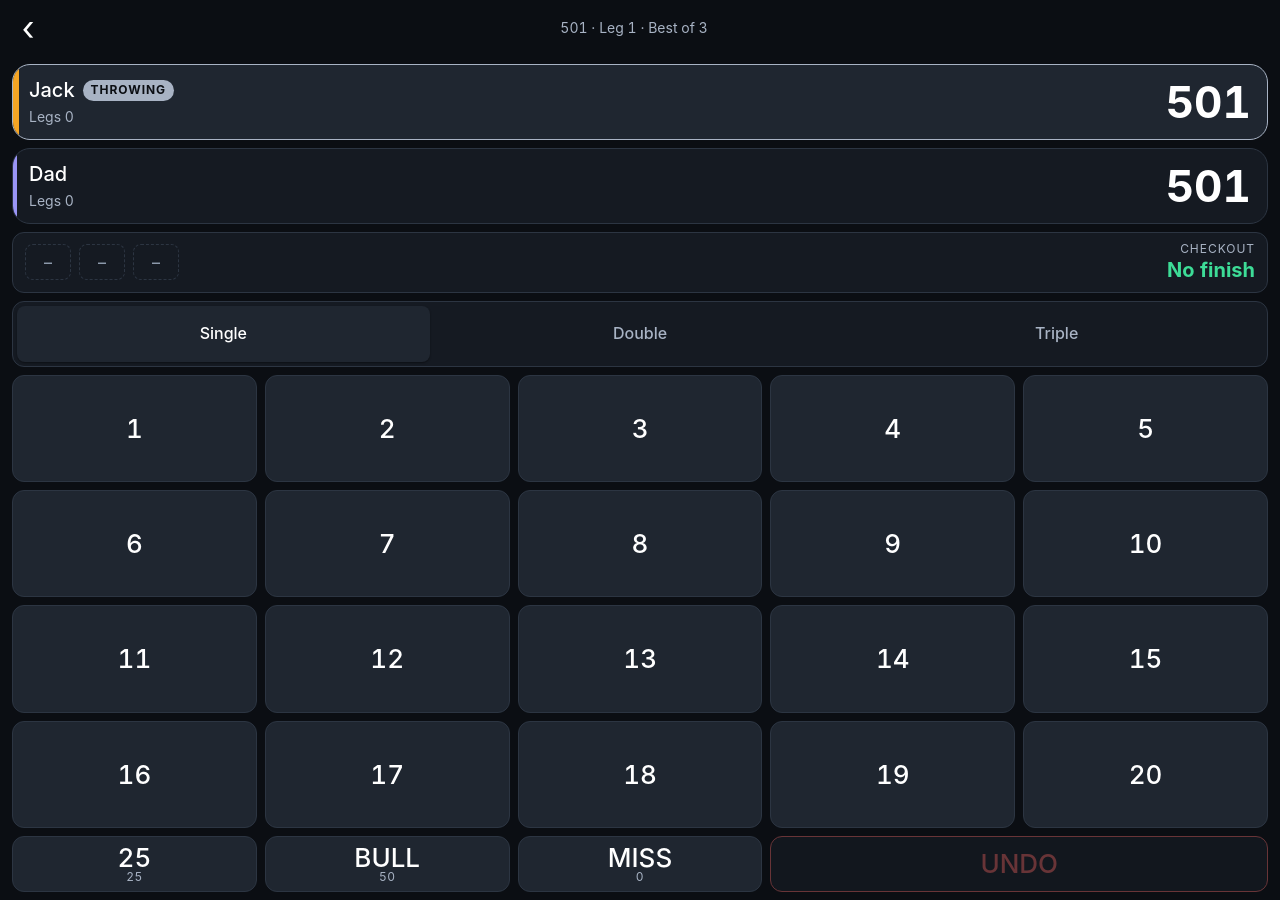
Test case: criterion 1: the boundary between the two sheets › shows the match sheet when the deciding leg of a best-of-3 is won
Expected: the element named "This visit" is shown, [25,244,179,280]
What coordinates should you click on to do the following:
click the radio button labelled "Double"
I would click on:
 (640, 334)
Its box is [434,306,846,362].
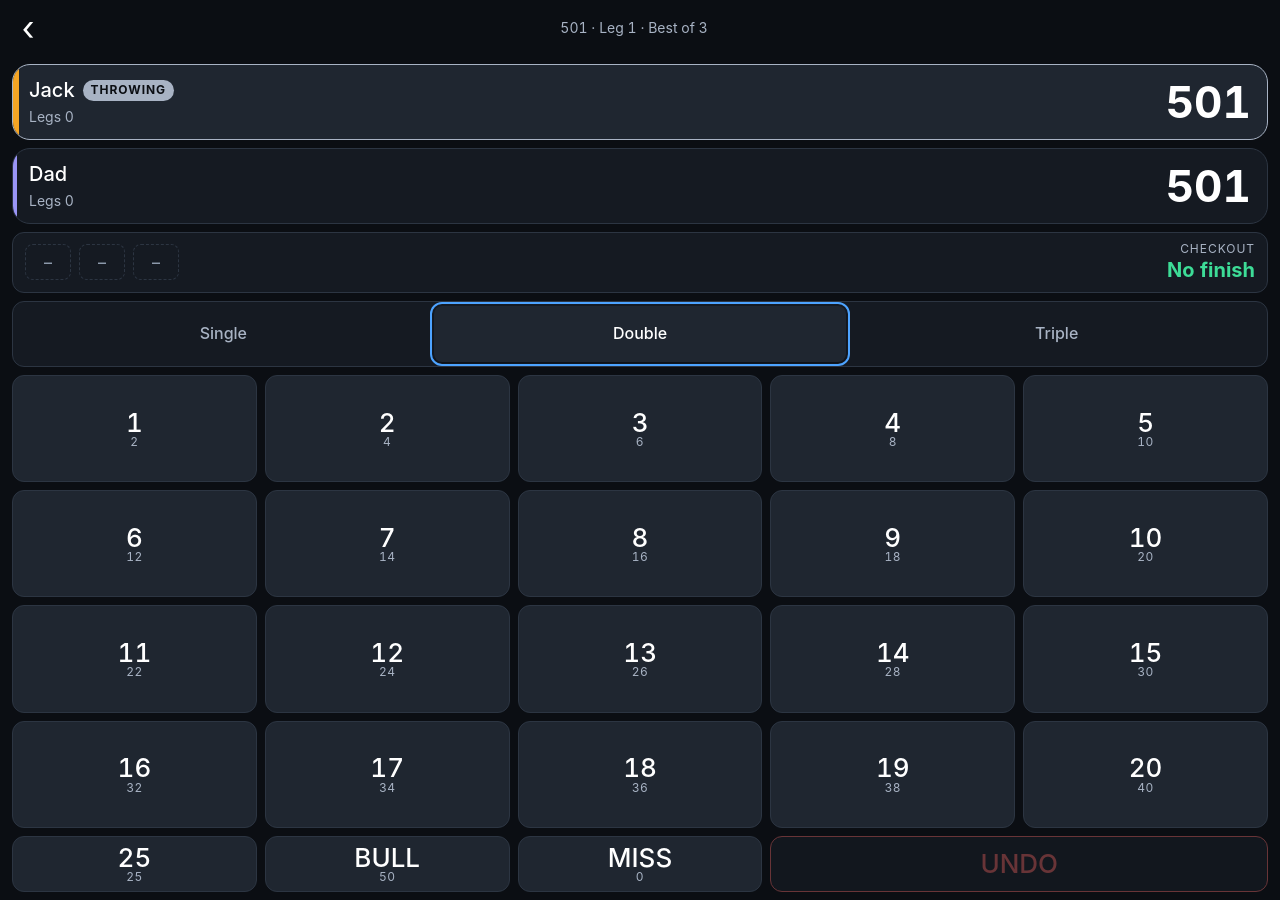
What coordinates should you click on to do the following:
click the button named "20,"
I would click on:
 (1146, 774)
Its box is [1023,721,1268,828].
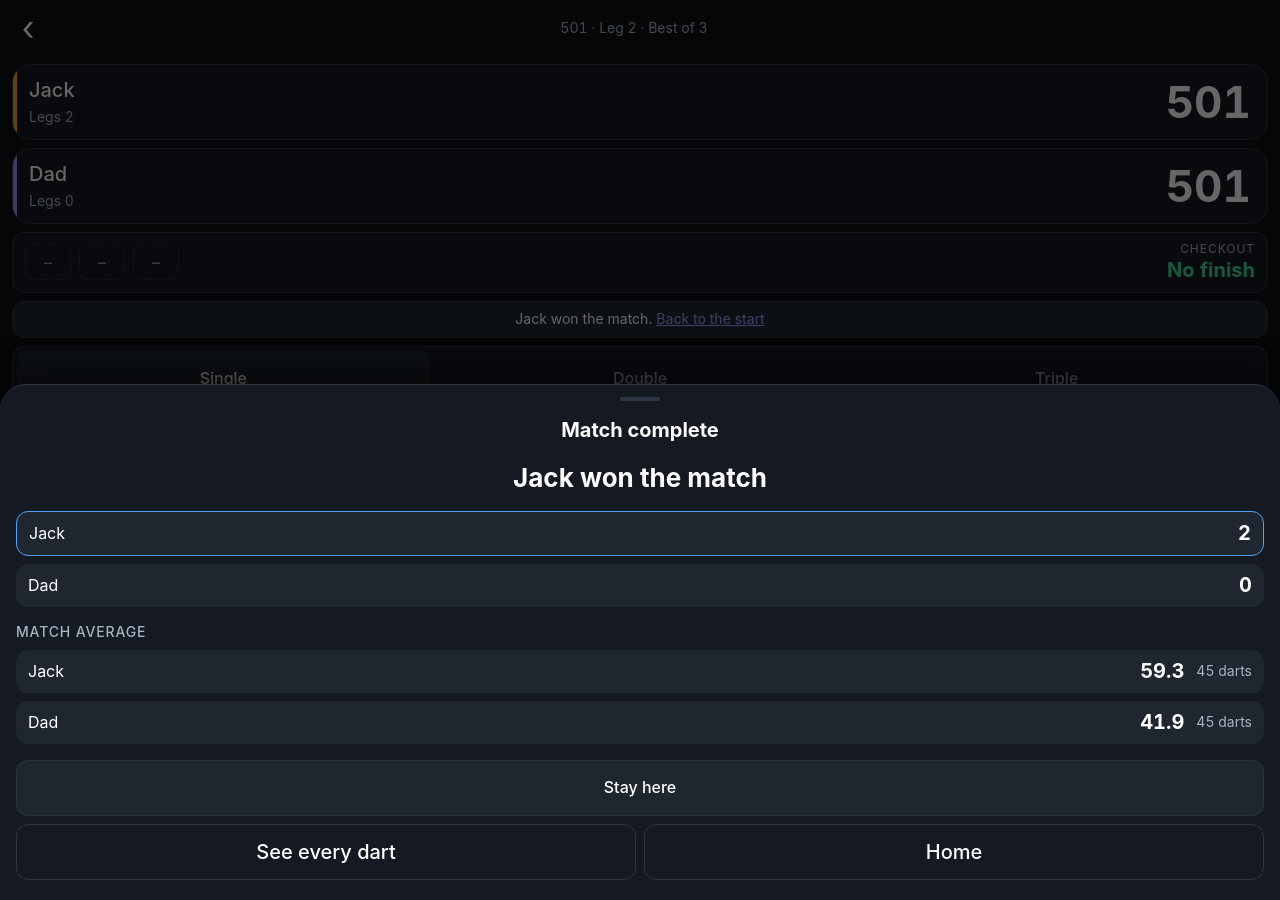
Now the dialog "Match complete" is shown, box [0,384,1279,899]
Now the text "Jack won the match" is shown, box [513,462,767,493]
